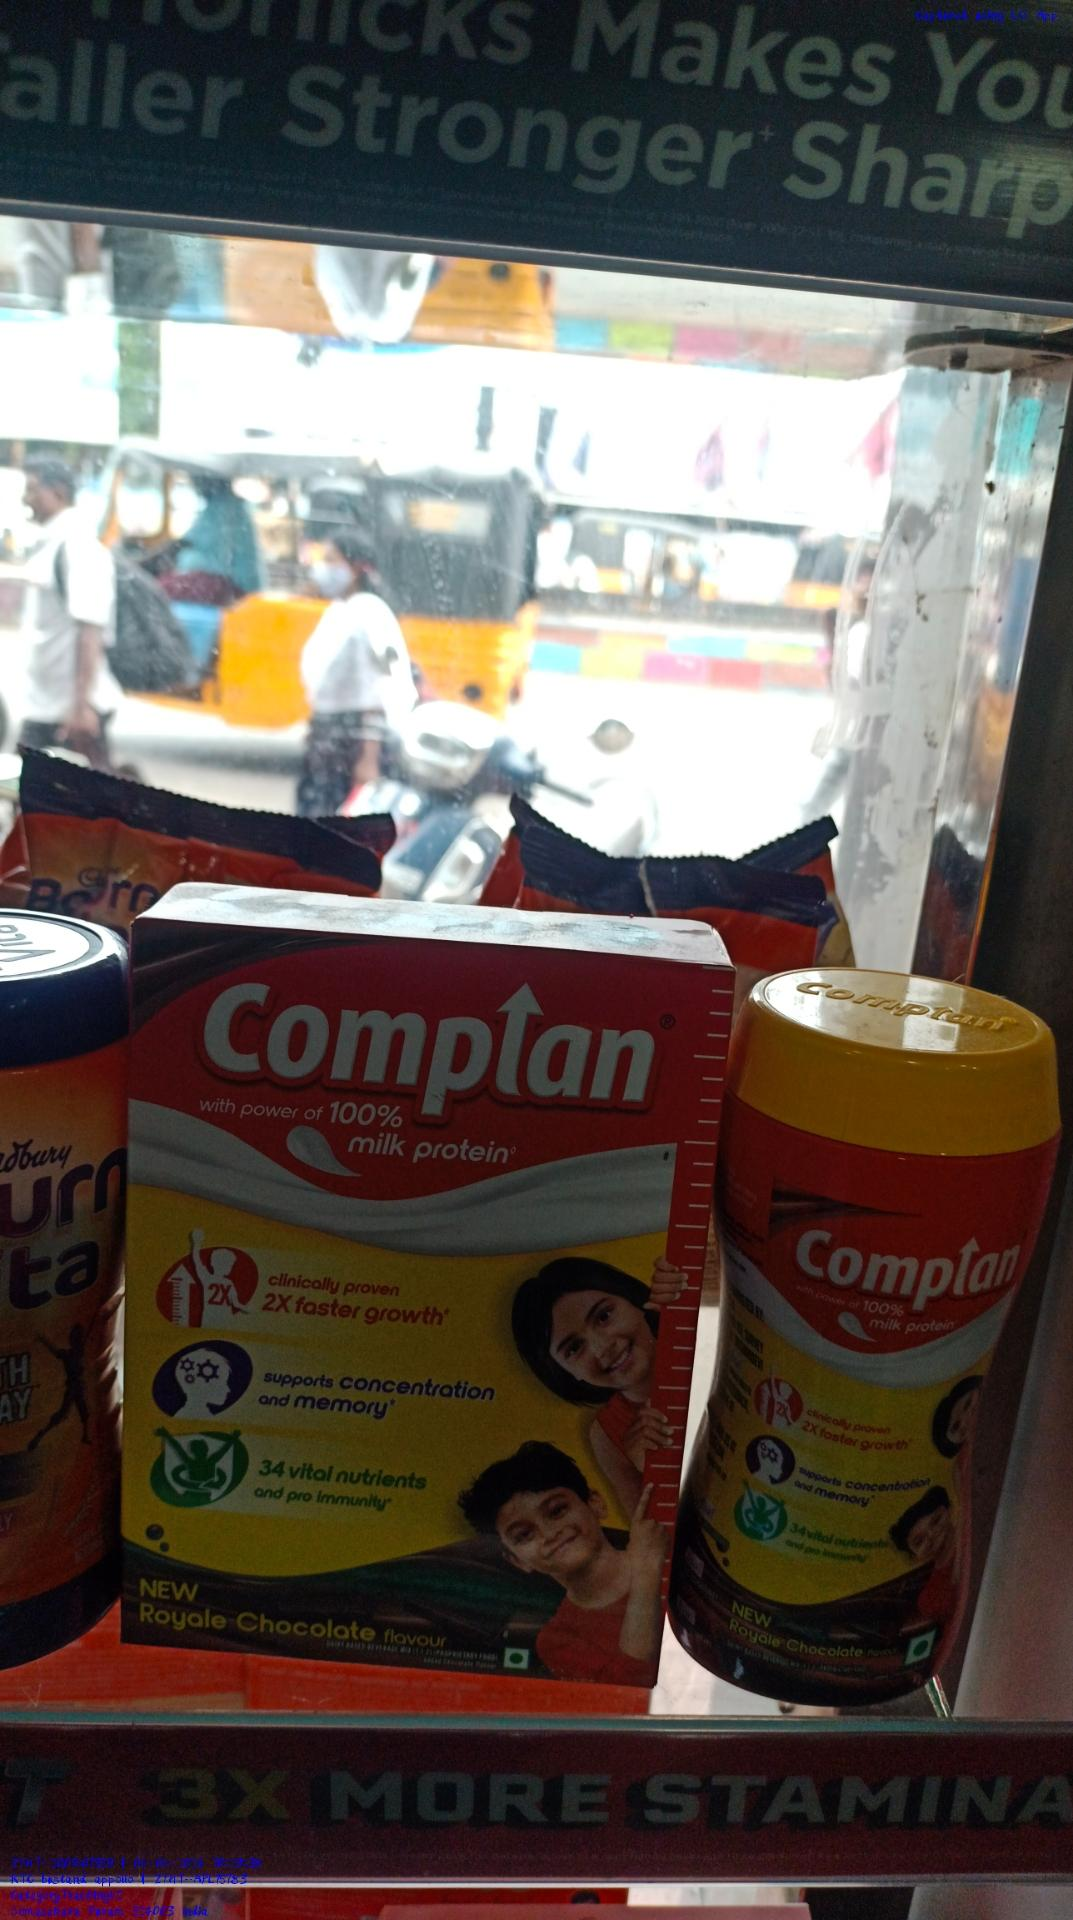COMPLAN_CHOCOLATE_200_GMS_JAR: (738, 948, 1060, 1709)
